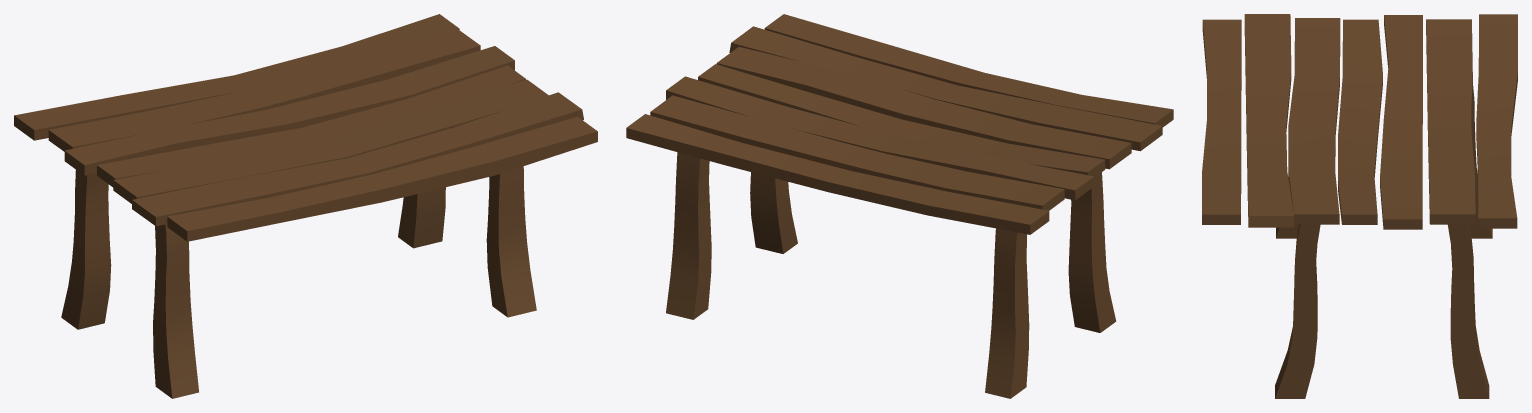
Rendered from SM_table.fbx.
The picture shows the model from 3 angles, left to right: view 1: azimuth 30°, elevation 25°; view 2: azimuth 150°, elevation 25°; view 3: azimuth 270°, elevation 25°; orthographic projection. The views are drawn at different scales.
Parts seen in each view (by area): view 1: Box136; view 2: Box136; view 3: Box136.
Part boxes in pixels (bbox=[...]): Box136: bbox=[14, 14, 597, 398]; Box136: bbox=[626, 14, 1173, 398]; Box136: bbox=[1202, 14, 1517, 398].
Size of the model in its own units: 81.76 by 36.79 by 53.21.
